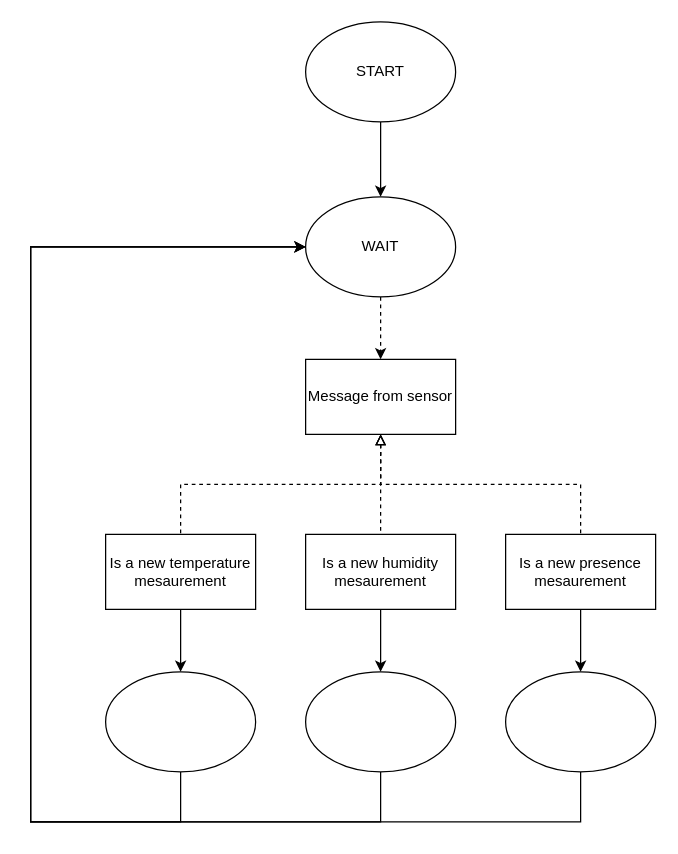
This 678x854 diagram has some shape labels left out. The centre of each missing label's shape, as x and y in pixels:
"Add new humidity measurement to db" belongs at (x=380, y=721).
"Add new presence measurement to db" belongs at (x=580, y=721).
"Add new temperature measurement to db" belongs at (x=180, y=721).
